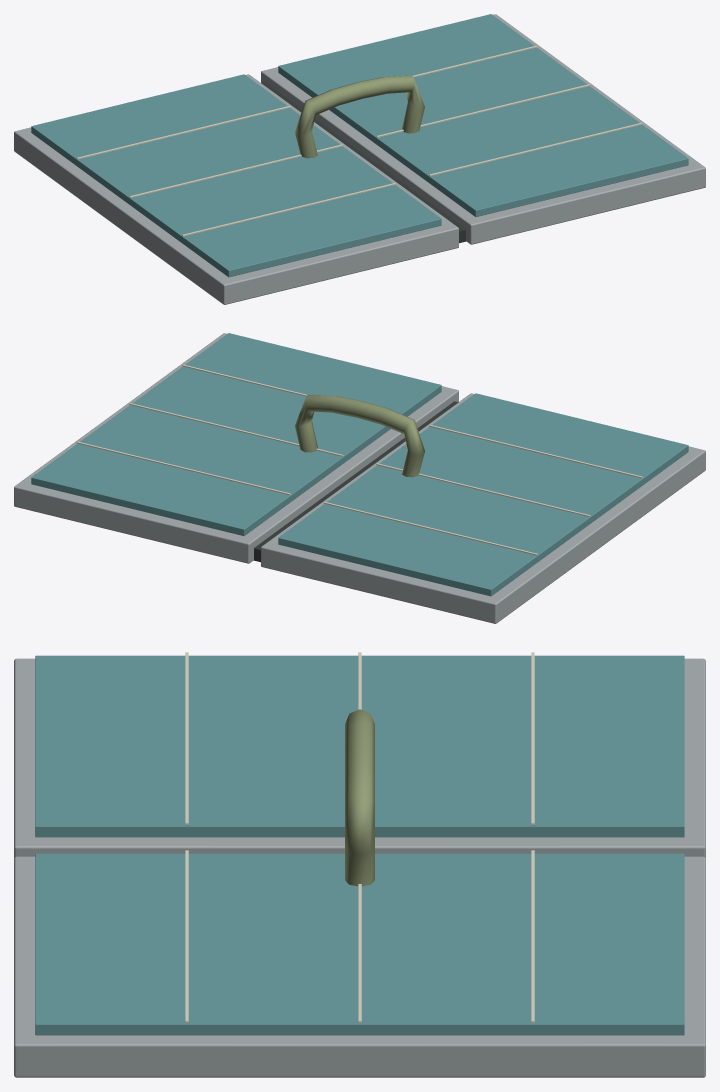
Rendered from off-grid-power-and-controls-folding-solar-panel-b994d9d9__2967.glb.
3 views of the same model, one above another, from view 1: azimuth 30°, elevation 25°; view 2: azimuth 150°, elevation 25°; view 3: azimuth 270°, elevation 25° (orthographic). The views are drawn at different scales.
Visible parts, largest first — view 1: folding-solar-panel; view 2: folding-solar-panel; view 3: folding-solar-panel.
Part boxes in pixels (<box>): folding-solar-panel: <box>14,14,705,304</box>; folding-solar-panel: <box>14,333,705,623</box>; folding-solar-panel: <box>14,652,705,1077</box>.
Bounding box in the file's own units: 0.86 × 0.149 × 0.65.
